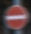No entry: (5, 5, 26, 29)
